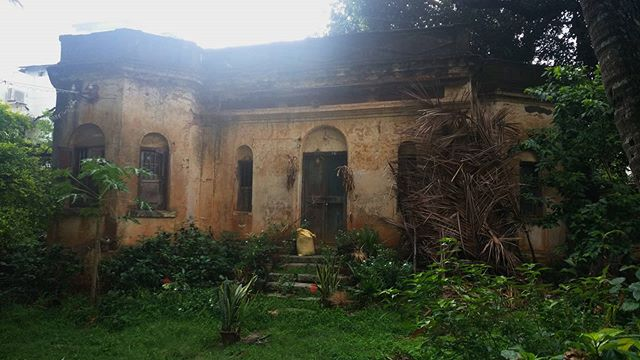building: (41, 26, 491, 273)
vegetation: (475, 1, 640, 352)
